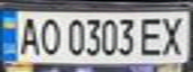0: (100, 16, 121, 57), (63, 16, 84, 56)
3: (115, 16, 139, 57), (81, 16, 103, 57)
A: (15, 15, 42, 56)
E: (136, 14, 166, 57)
O: (36, 15, 63, 56)
X: (157, 14, 190, 56)
